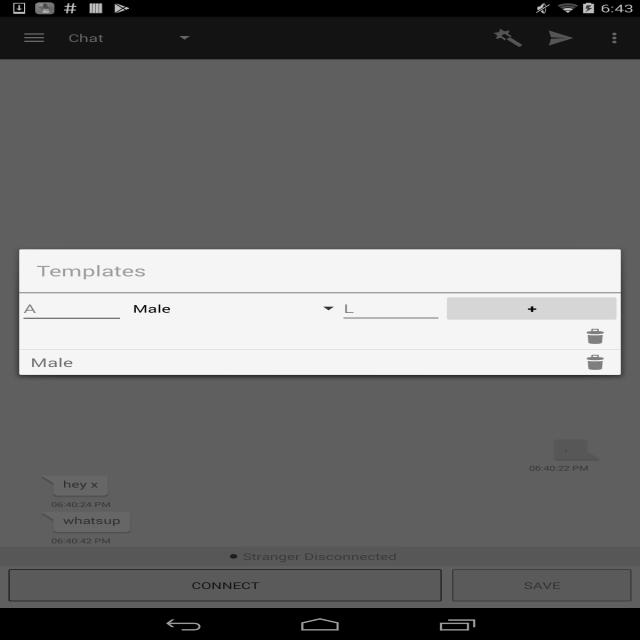Button: (442, 293, 620, 324)
EditText: (19, 293, 124, 324), (339, 293, 443, 324)
ImageButton: (578, 326, 612, 347), (578, 352, 612, 373)
Spinner: (124, 293, 339, 324)
TextView: (19, 249, 621, 292), (26, 328, 575, 344), (26, 354, 575, 370), (124, 301, 322, 316)
